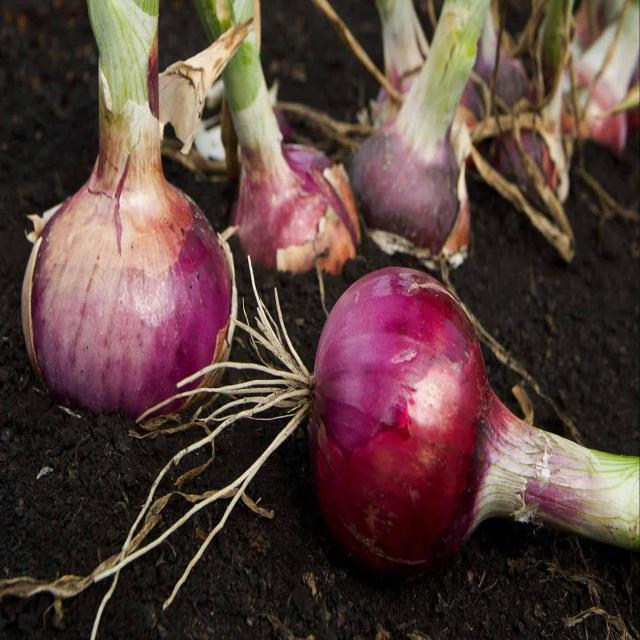Onion: (74, 257, 488, 640), (19, 160, 238, 425), (490, 398, 640, 547), (464, 59, 576, 254), (353, 123, 474, 267), (232, 139, 362, 271), (196, 0, 280, 136), (87, 1, 161, 155), (409, 1, 485, 122), (562, 52, 626, 158), (585, 0, 640, 97), (376, 0, 420, 87), (532, 4, 565, 56)
